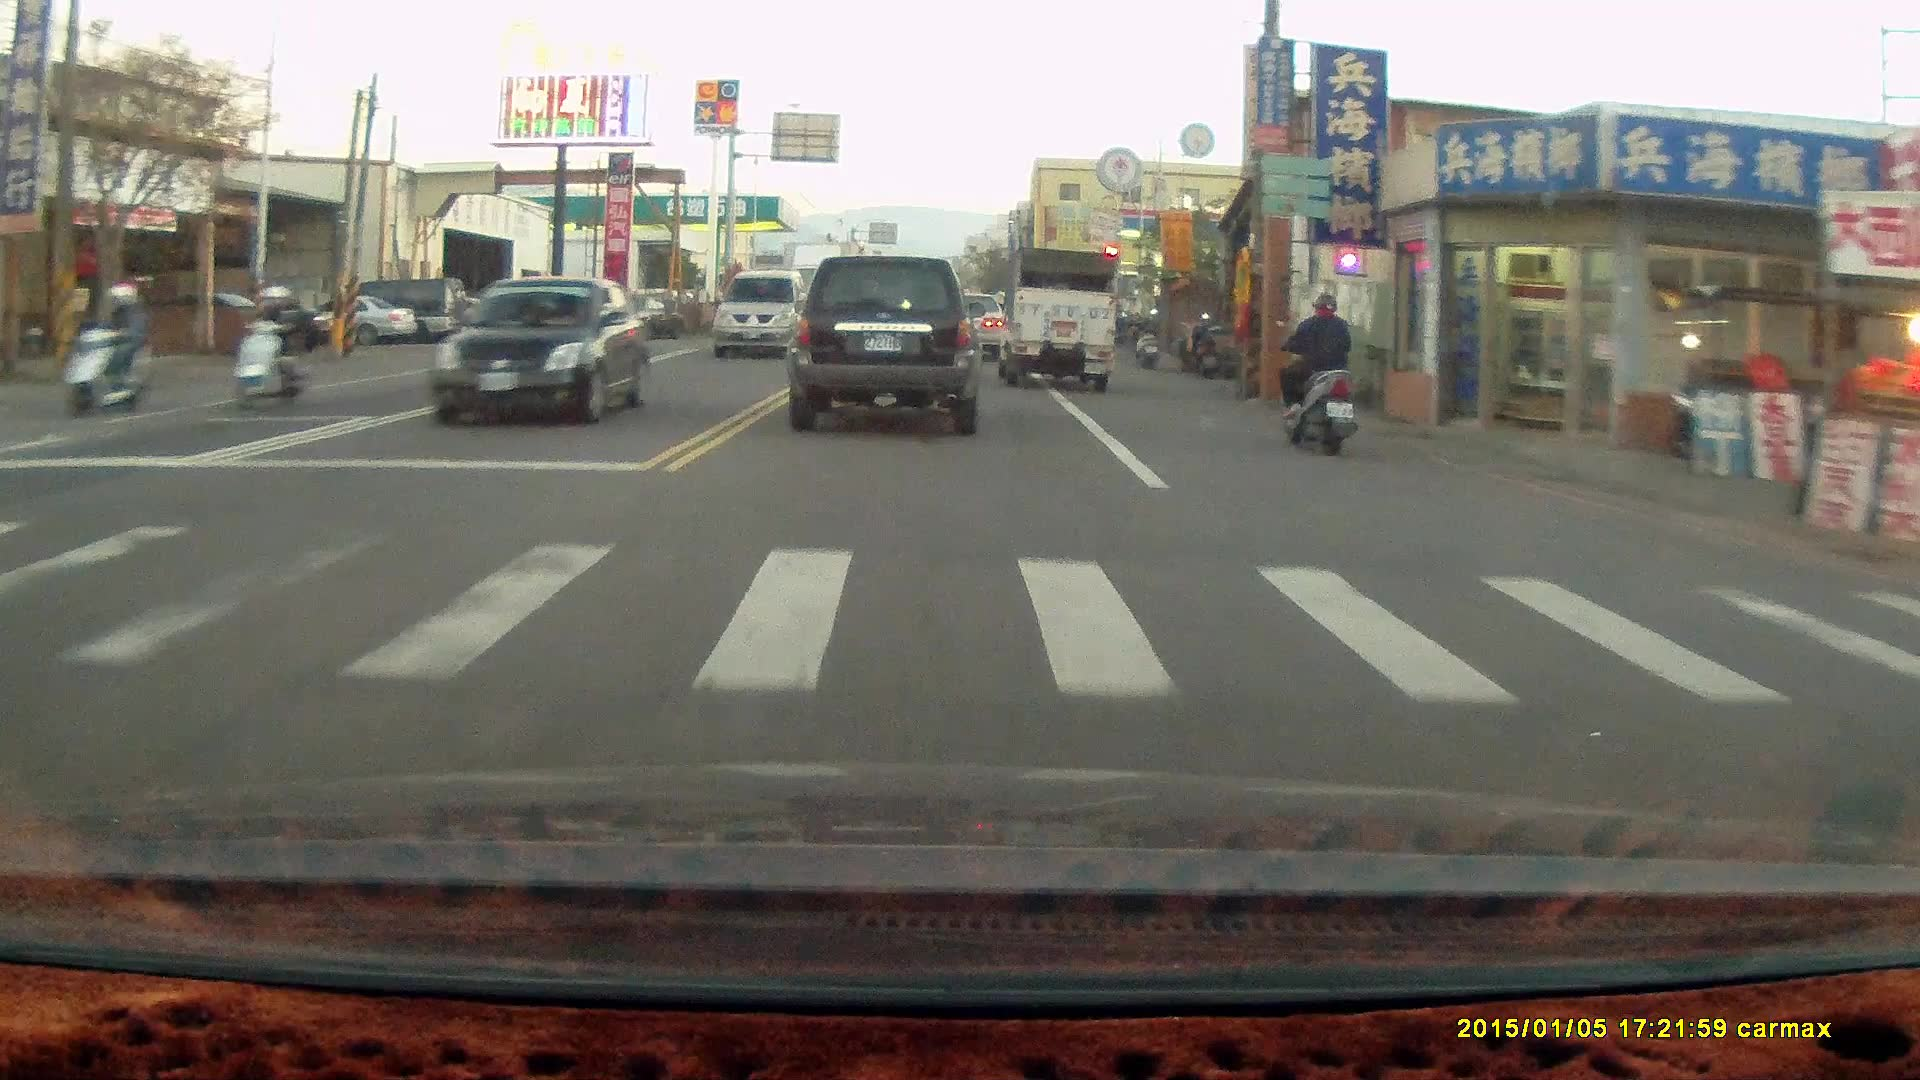rider: (1267, 276, 1359, 443), (60, 275, 150, 419), (227, 273, 319, 404)
vehicle: (785, 253, 983, 434), (433, 273, 653, 420), (993, 245, 1117, 393), (711, 267, 815, 358), (470, 287, 589, 354)
